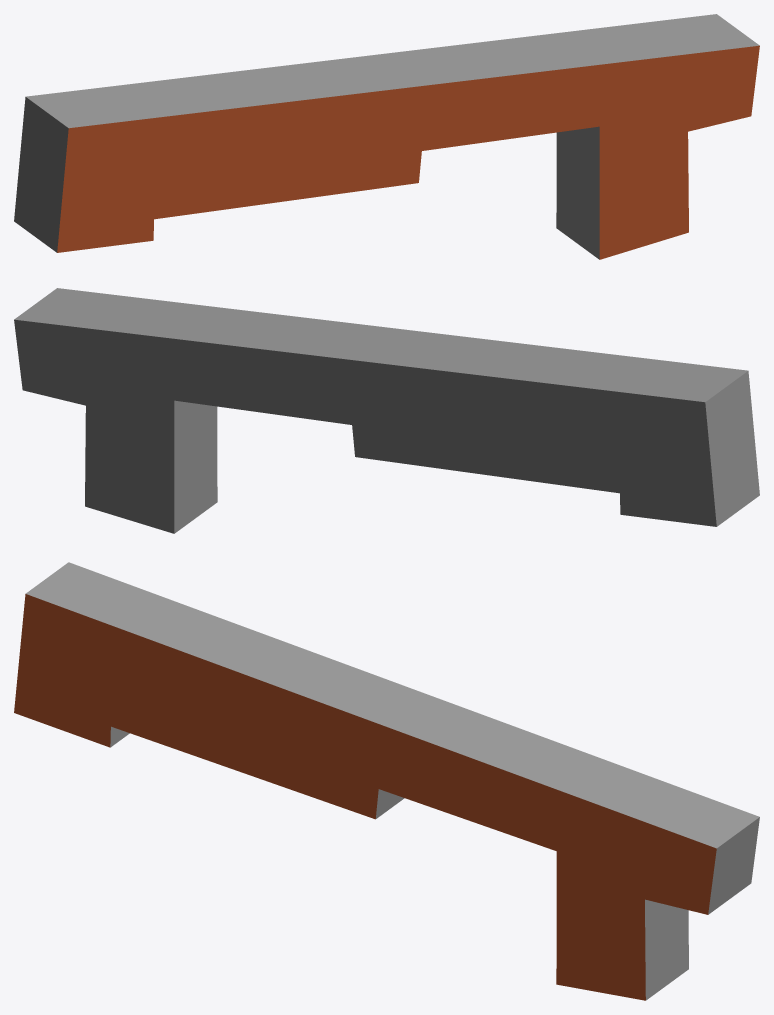
Rendered from construction_2582_assumed_A_Casa_h6m.obj.
The picture shows the model from 3 angles, top to bottom: view 1: azimuth 30°, elevation 25°; view 2: azimuth 150°, elevation 25°; view 3: azimuth 330°, elevation 25°; orthographic projection.
Visible parts, largest first — view 1: construction_2582_assumed_A_Casa; view 2: construction_2582_assumed_A_Casa; view 3: construction_2582_assumed_A_Casa.
Part boxes in pixels (bbox=[...]): construction_2582_assumed_A_Casa: bbox=[14, 14, 759, 259]; construction_2582_assumed_A_Casa: bbox=[14, 288, 759, 533]; construction_2582_assumed_A_Casa: bbox=[14, 562, 759, 1000].
Size of the model in its own units: 56.36 by 20.02 by 6.
